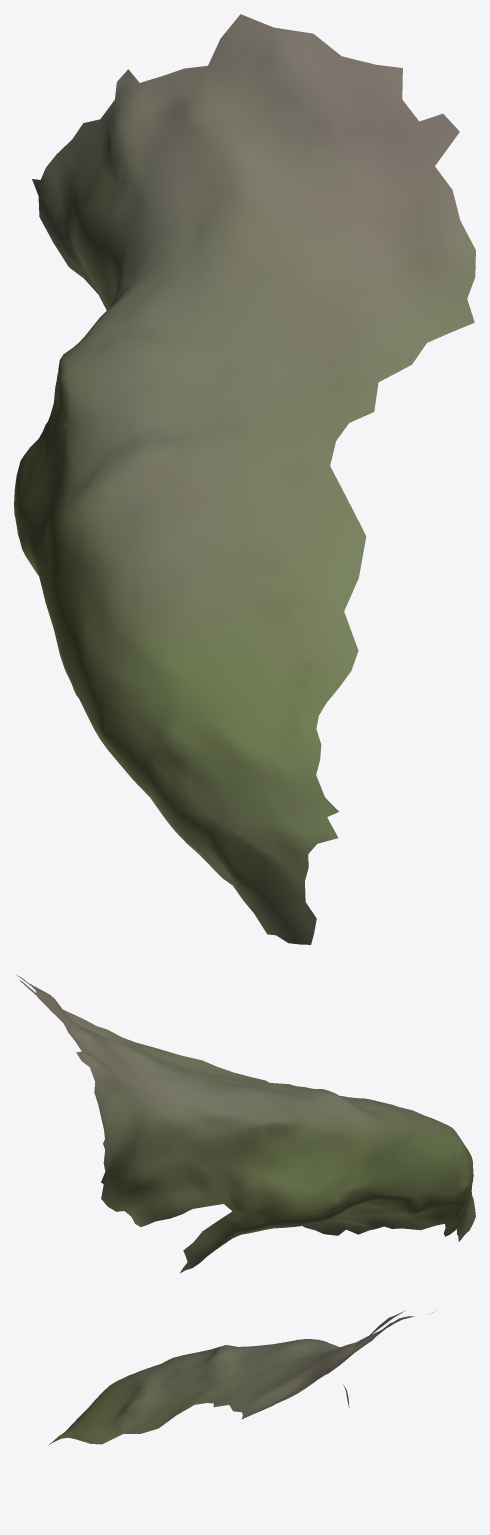
File: LODS_Cloud_global_21.glb
3 renders of one model, top to bottom at view 1: azimuth 30°, elevation 25°; view 2: azimuth 150°, elevation 25°; view 3: azimuth 270°, elevation 25°, orthographic. The views are drawn at different scales.
Parts seen in each view (by area): view 1: LOD0; view 2: LOD0; view 3: LOD0.
Part boxes in pixels (left/top/right/bottom): LOD0: left=14, top=14, right=475, bottom=944; LOD0: left=16, top=974, right=475, bottom=1272; LOD0: left=49, top=1310, right=433, bottom=1444.
Size of what is drawn, in the model's own units: 0.2109 by 0.2161 by 0.2997.
